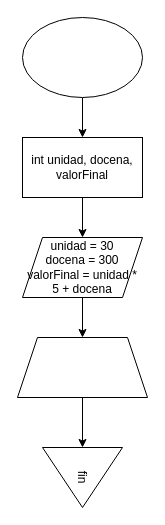
Image size: 165x525. Some labels were removed from this diagram. The centre of each missing label's shape, as x and y in pixels:
"El valor final es %d", valorFinal: point (82, 367)
Pizzeria: point (82, 57)
